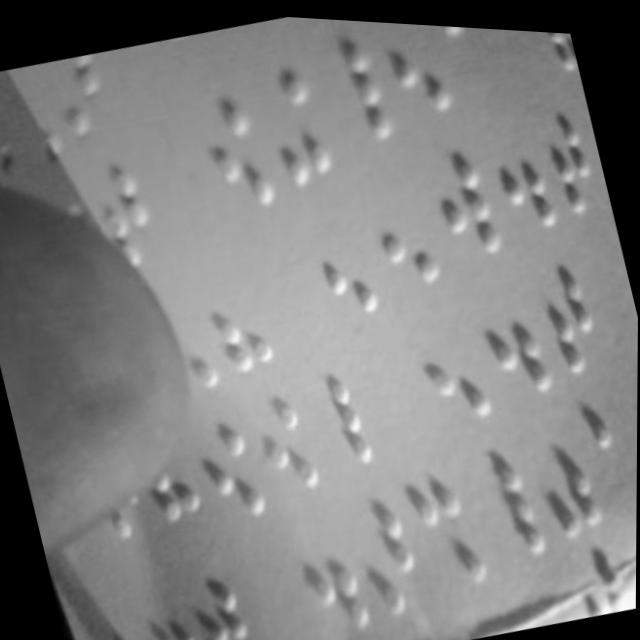braiile: (478, 107, 564, 246), (528, 91, 615, 227), (194, 255, 283, 385), (471, 264, 556, 400), (190, 92, 280, 217), (403, 467, 489, 596), (411, 297, 493, 432), (286, 509, 373, 636), (524, 410, 607, 540), (463, 435, 547, 563), (255, 60, 339, 188), (420, 137, 506, 261), (530, 252, 613, 380), (313, 26, 398, 150), (345, 491, 429, 616), (189, 407, 271, 530), (245, 383, 326, 504), (307, 203, 384, 326), (364, 177, 443, 294), (302, 363, 378, 479), (377, 18, 456, 128), (186, 566, 259, 640)
